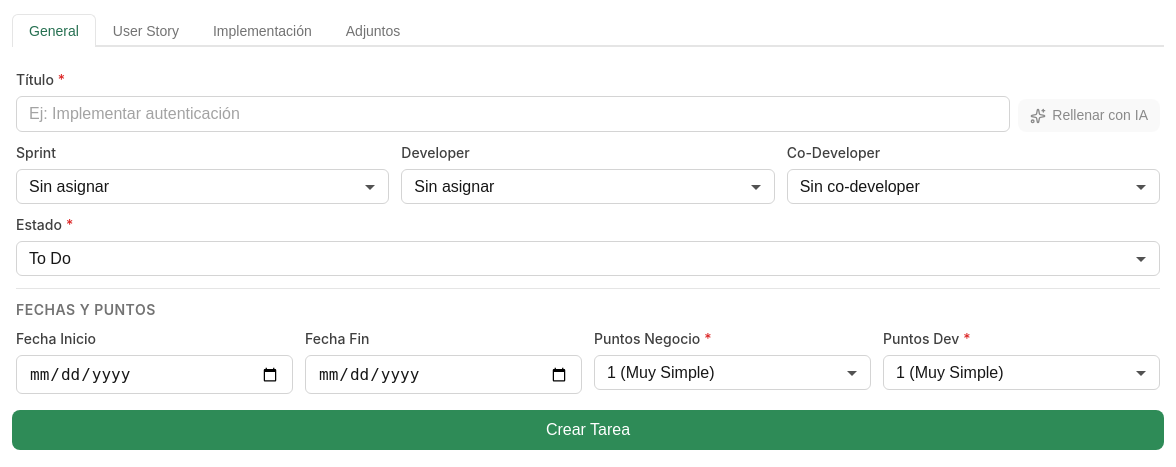
Test: TaskForm Component › should show User Story fields when User Story tab is clicked
Click the button "User Story".
click(146, 30)  # box top-left (96, 14), bottom-right (196, 47)
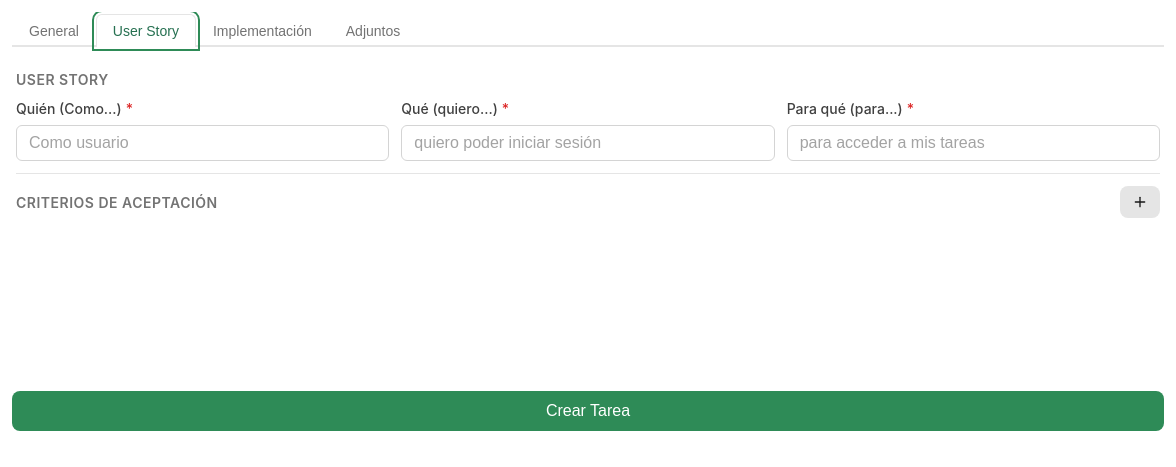
Expected: the field with placeholder "Como usuario" is shown, top-left (16, 125), bottom-right (389, 161)
Expected: the field with placeholder "quiero poder iniciar sesión" is shown, top-left (401, 125), bottom-right (775, 161)
Expected: the field with placeholder "para acceder a mis tareas" is shown, top-left (787, 125), bottom-right (1160, 161)
